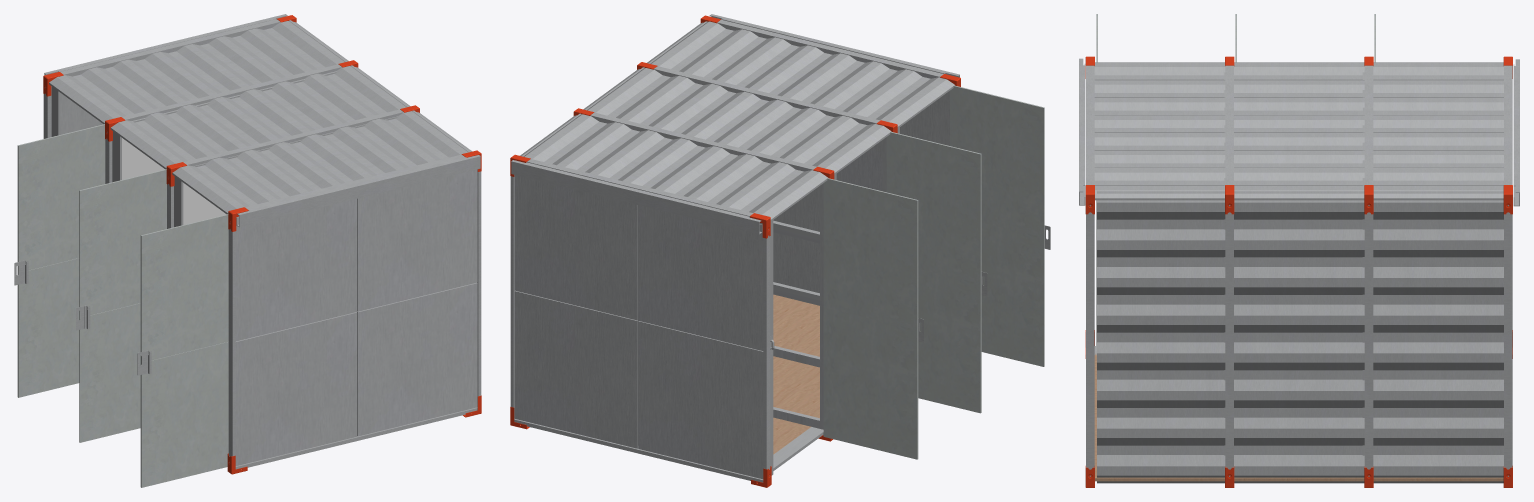
Rendered from 6S3_opened.glb.
The picture shows the model from 3 angles, left to right: view 1: azimuth 30°, elevation 25°; view 2: azimuth 150°, elevation 25°; view 3: azimuth 270°, elevation 25°; orthographic projection. The views are drawn at different scales.
Visible parts, largest first — view 1: doors, Cube.001, celing, frontRim, gutter, Wall, corners, Cube, gutter.001, Wall.001; view 2: doors, Cube, celing, frontRim, Cube.001, floor.002, gutter.001, Wall, corners, gutter, floor; view 3: back, celing, frontRim, corners, floor.002, gutter.001, gutter, Wall.
Part boxes in pixels (left/top/right/bottom): doors: left=14, top=86, right=228, bottom=487; Cube.001: left=235, top=169, right=477, bottom=465; celing: left=49, top=21, right=472, bottom=214; frontRim: left=43, top=19, right=481, bottom=469; gutter: left=236, top=155, right=480, bottom=227; Wall: left=112, top=71, right=397, bottom=226; corners: left=43, top=15, right=481, bottom=474; Cube: left=50, top=86, right=103, bottom=136; gutter.001: left=44, top=14, right=287, bottom=75; Wall.001: left=174, top=117, right=397, bottom=226; doors: left=770, top=85, right=1050, bottom=475; Cube: left=514, top=175, right=763, bottom=479; celing: left=520, top=21, right=954, bottom=221; frontRim: left=510, top=19, right=943, bottom=482; Cube.001: left=773, top=91, right=949, bottom=305; floor.002: left=773, top=294, right=819, bottom=454; gutter.001: left=511, top=160, right=762, bottom=234; Wall: left=773, top=137, right=886, bottom=429; corners: left=510, top=15, right=960, bottom=487; gutter: left=709, top=14, right=959, bottom=77; floor: left=773, top=427, right=823, bottom=470; back: left=1097, top=190, right=1503, bottom=483; celing: left=1094, top=62, right=1503, bottom=200; frontRim: left=1086, top=65, right=1512, bottom=476; corners: left=1085, top=56, right=1512, bottom=487; floor.002: left=1094, top=354, right=1503, bottom=481; gutter.001: left=1513, top=59, right=1519, bottom=206; gutter: left=1079, top=58, right=1085, bottom=205; Wall: left=1224, top=72, right=1364, bottom=455.
Bounding box in the file's own units: 31.52 × 23.06 × 31.28.
Materials: 10 (9 with a texture image).
